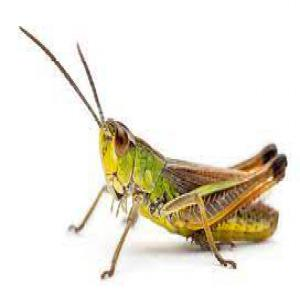locust: (62, 63, 278, 194), (63, 194, 290, 269)
